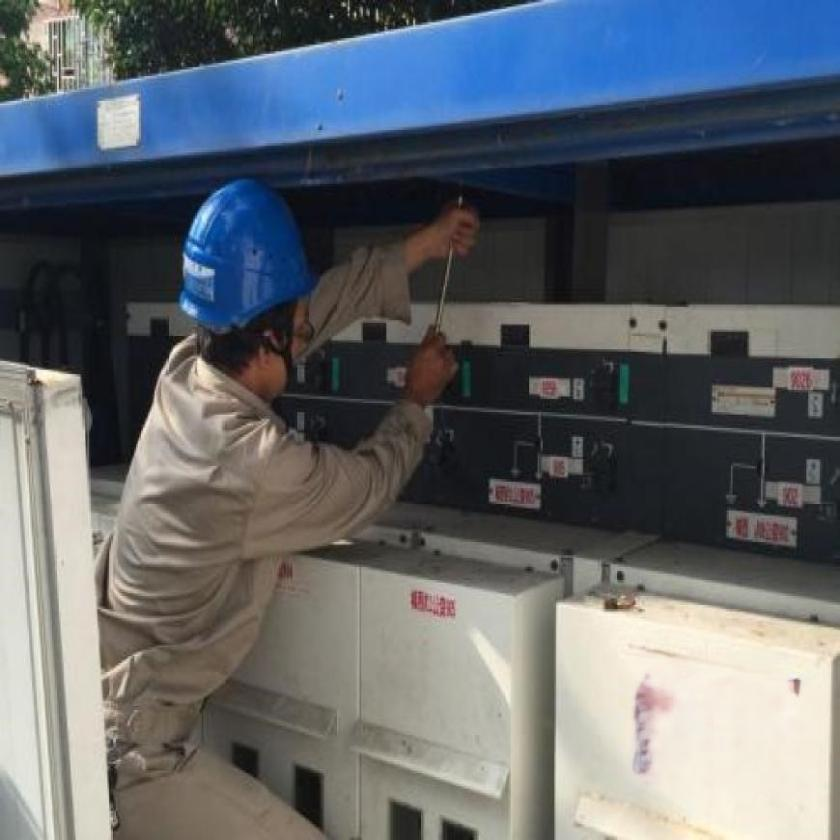Con_casco: (162, 160, 343, 416)
